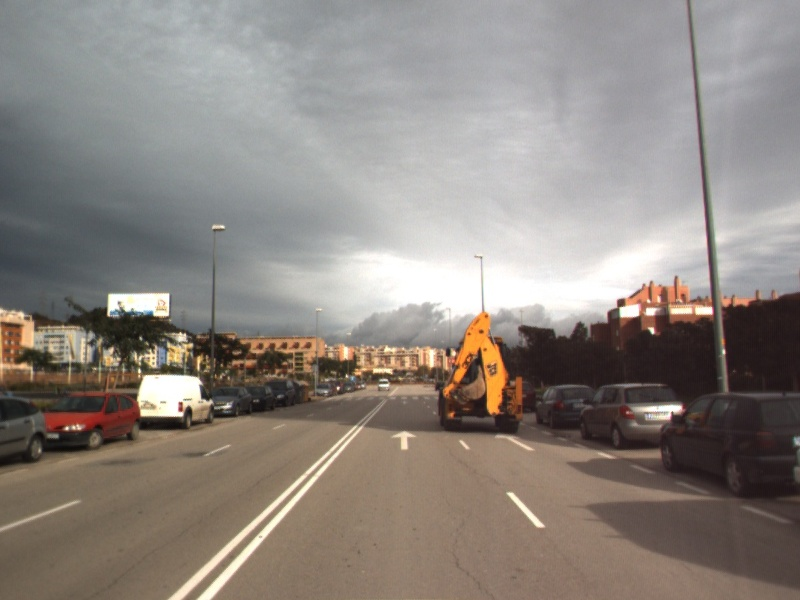STRAIGHT: (493, 430, 537, 452), (389, 428, 419, 452)
